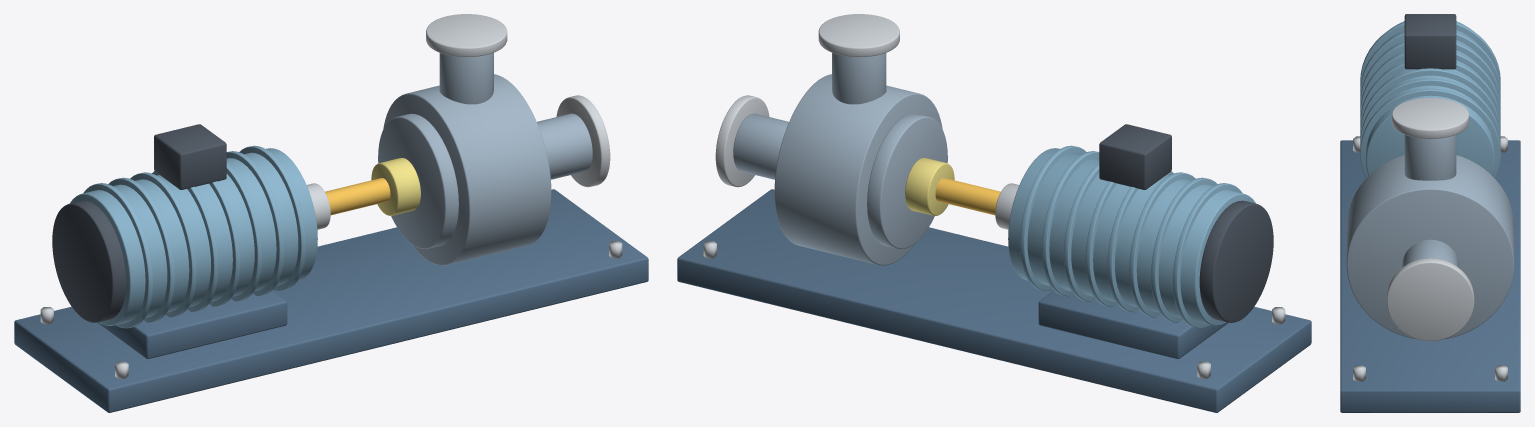
The model's file is marine_bilge_pump.glb.
3 renders of one model, left to right at view 1: azimuth 30°, elevation 25°; view 2: azimuth 150°, elevation 25°; view 3: azimuth 270°, elevation 25°, orthographic. The views are drawn at different scales.
Visible parts, largest first — view 1: Pump_Skid, Motor_Body, Pump_Casing, Motor_End_Cap, Casing_Cover, Pump_Skid_Pedestal, Motor_Terminal_Box, Discharge_Flange, Suction_Port, Discharge_Port, Suction_Flange, Shaft_Seal (+10 smaller); view 2: Pump_Skid, Motor_Body, Pump_Casing, Motor_End_Cap, Casing_Cover, Pump_Skid_Pedestal, Motor_Terminal_Box, Discharge_Flange, Suction_Port, Discharge_Port, Suction_Flange, Shaft_Seal (+10 smaller); view 3: Pump_Skid, Pump_Casing, Suction_Flange, Motor_Body, Motor_Terminal_Box, Discharge_Flange, Discharge_Port, Motor_Cooling_Fin_8, Motor_Cooling_Fin_7, Motor_Cooling_Fin_6, Suction_Port, Motor_Cooling_Fin_1 (+6 smaller).
Part boxes in pixels (bbox=[...]): Pump_Skid: bbox=[14, 189, 648, 412]; Motor_Body: bbox=[70, 148, 317, 325]; Pump_Casing: bbox=[383, 74, 551, 265]; Motor_End_Cap: bbox=[52, 200, 126, 322]; Casing_Cover: bbox=[378, 113, 458, 249]; Pump_Skid_Pedestal: bbox=[97, 291, 287, 358]; Motor_Terminal_Box: bbox=[154, 124, 226, 189]; Discharge_Flange: bbox=[426, 14, 507, 57]; Suction_Port: bbox=[537, 113, 592, 179]; Discharge_Port: bbox=[439, 53, 493, 104]; Suction_Flange: bbox=[556, 95, 610, 187]; Shaft_Seal: bbox=[371, 158, 420, 215]; Pump_Skid: bbox=[677, 189, 1311, 412]; Motor_Body: bbox=[1008, 148, 1255, 325]; Pump_Casing: bbox=[774, 74, 942, 265]; Motor_End_Cap: bbox=[1199, 200, 1273, 322]; Casing_Cover: bbox=[867, 113, 947, 249]; Pump_Skid_Pedestal: bbox=[1038, 291, 1228, 358]; Motor_Terminal_Box: bbox=[1099, 124, 1171, 189]; Discharge_Flange: bbox=[818, 14, 899, 57]; Suction_Port: bbox=[733, 113, 788, 179]; Discharge_Port: bbox=[832, 53, 886, 104]; Suction_Flange: bbox=[715, 95, 769, 187]; Shaft_Seal: bbox=[905, 158, 954, 215]; Pump_Skid: bbox=[1340, 140, 1520, 412]; Pump_Casing: bbox=[1346, 155, 1514, 339]; Suction_Flange: bbox=[1386, 258, 1474, 341]; Motor_Body: bbox=[1366, 21, 1494, 175]; Motor_Terminal_Box: bbox=[1404, 14, 1456, 69]; Discharge_Flange: bbox=[1391, 98, 1469, 138]; Discharge_Port: bbox=[1404, 135, 1456, 180]; Motor_Cooling_Fin_8: bbox=[1360, 88, 1500, 178]; Motor_Cooling_Fin_7: bbox=[1360, 78, 1500, 147]; Motor_Cooling_Fin_6: bbox=[1360, 68, 1500, 137]; Suction_Port: bbox=[1402, 239, 1458, 267]; Motor_Cooling_Fin_1: bbox=[1360, 22, 1500, 86].
Bounding box in the file's own units: 4.6 × 2.03 × 1.4.
